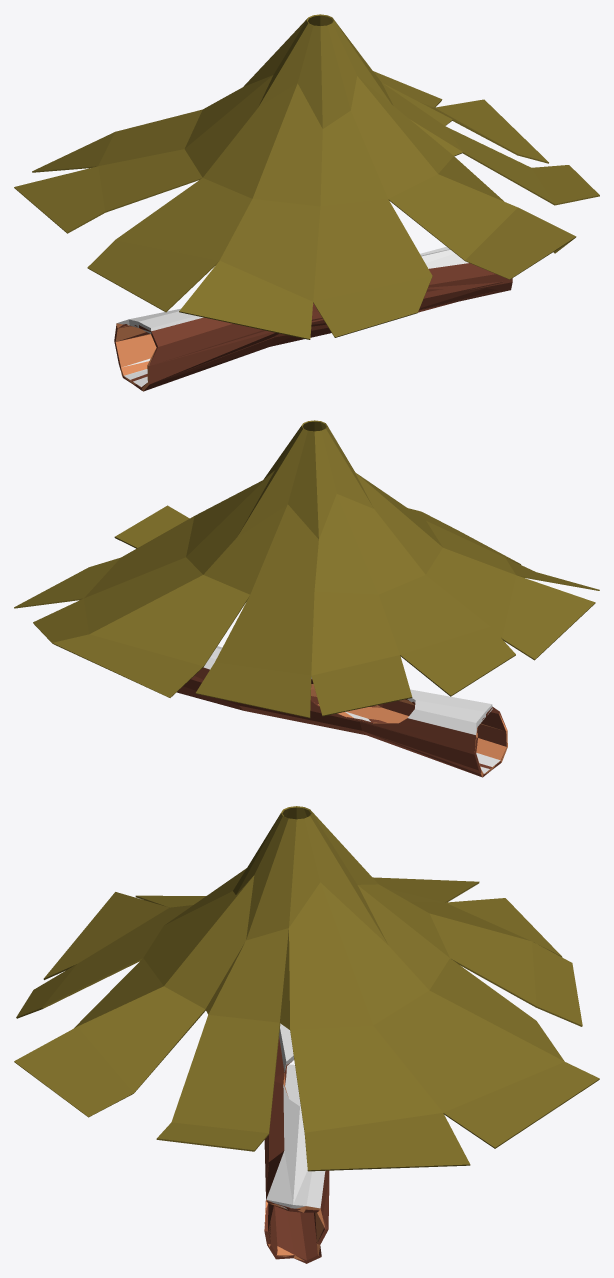
The model's file is pine_trunk_type_11_extra_LOD1.fbx.
3 renders of one model, top to bottom at view 1: azimuth 30°, elevation 25°; view 2: azimuth 150°, elevation 25°; view 3: azimuth 270°, elevation 25°, orthographic. The views are drawn at different scales.
Parts seen in each view (by area): view 1: CircleSave, pt_type_11.001, pt_type_11_save.001; view 2: CircleSave, pt_type_11.001, pt_type_11_save.001; view 3: CircleSave, pt_type_11.001, pt_type_11_save.001.
Part boxes in pixels (x1=…): CircleSave: x1=14, y1=14, x2=599, y2=339; pt_type_11.001: x1=114, y1=246, x2=503, y2=391; pt_type_11_save.001: x1=114, y1=274, x2=512, y2=390; CircleSave: x1=14, y1=420, x2=599, y2=718; pt_type_11.001: x1=178, y1=646, x2=507, y2=776; pt_type_11_save.001: x1=176, y1=676, x2=506, y2=777; CircleSave: x1=14, y1=806, x2=599, y2=1171; pt_type_11.001: x1=264, y1=1023, x2=329, y2=1260; pt_type_11_save.001: x1=264, y1=1036, x2=329, y2=1263.
Size of the model in its own units: 1013 by 651 by 961.
